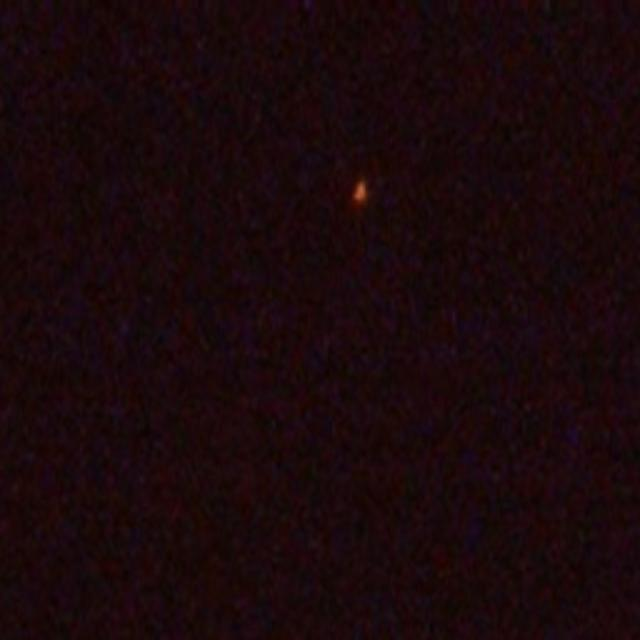microbeads: (351, 183, 374, 207)
